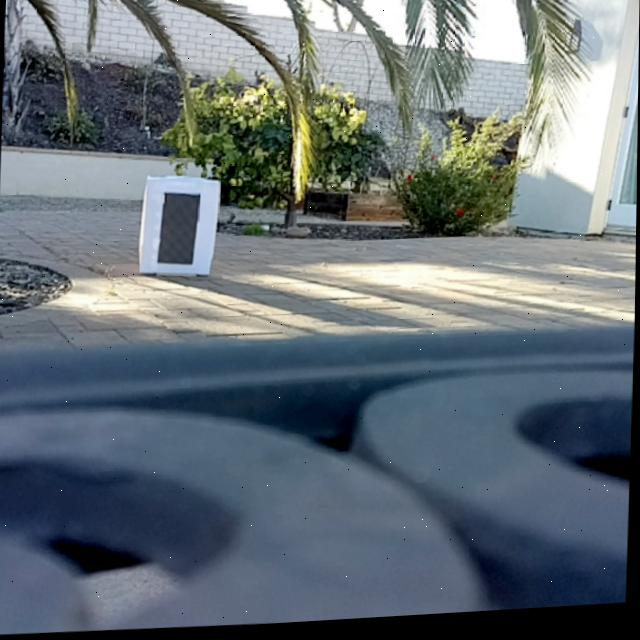led: (158, 190, 201, 271)
